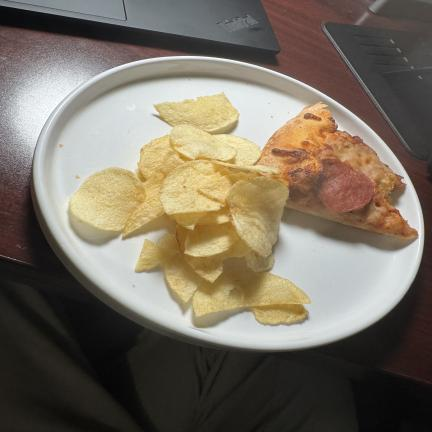chips: (70, 94, 309, 324), (193, 271, 310, 316), (227, 177, 288, 256), (69, 168, 145, 230), (136, 234, 203, 302), (154, 93, 238, 133), (160, 160, 221, 214), (123, 172, 164, 237), (170, 125, 236, 161), (198, 172, 259, 205), (139, 136, 183, 178), (185, 222, 239, 256), (214, 135, 260, 165), (252, 305, 308, 324), (211, 160, 280, 175), (169, 212, 208, 229), (197, 207, 230, 225), (245, 251, 274, 271)
pizza: (258, 104, 417, 239)
plate: (67, 91, 420, 326)
